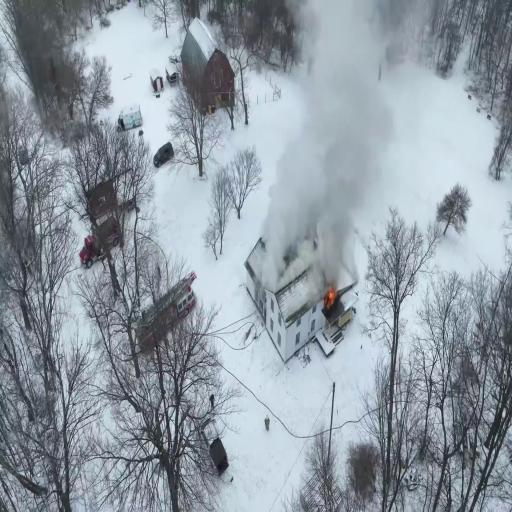smoke: (292, 110, 372, 218)
